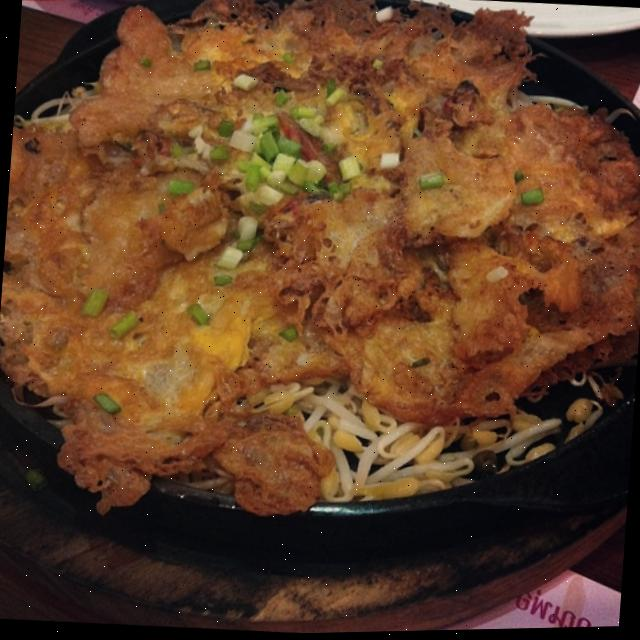炸货点心: (23, 8, 636, 622)
蛋糕甜品: (23, 8, 636, 622)
